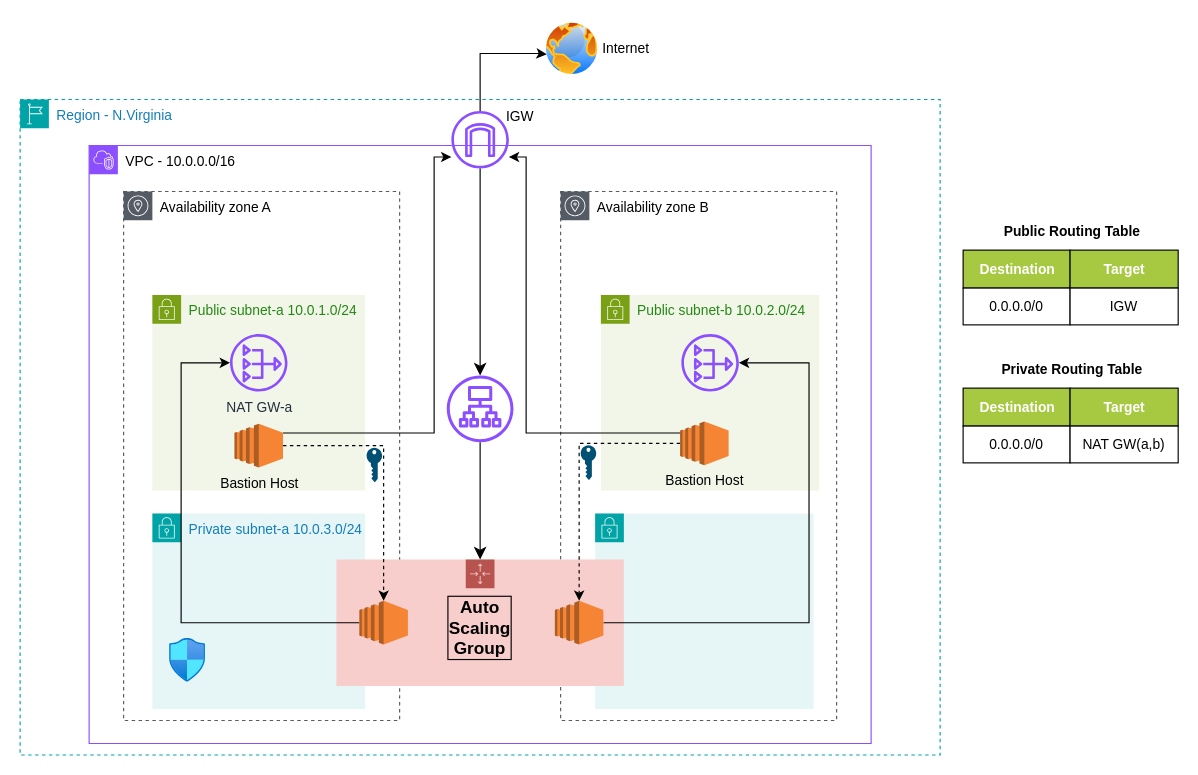
Image size: 1198x775. Some labels were removed from this diagram. The shapes that lost their labels are listed below. From the top down, each one's centre as x and y in pixels, then its label:
point 709,362: NAT GW-b
point 479,408: ALB
point 383,622: Web server1
point 578,622: Web server2
point 704,610: Private subnet-b 10.0.4.0/24
point 187,660: Port 22,80
